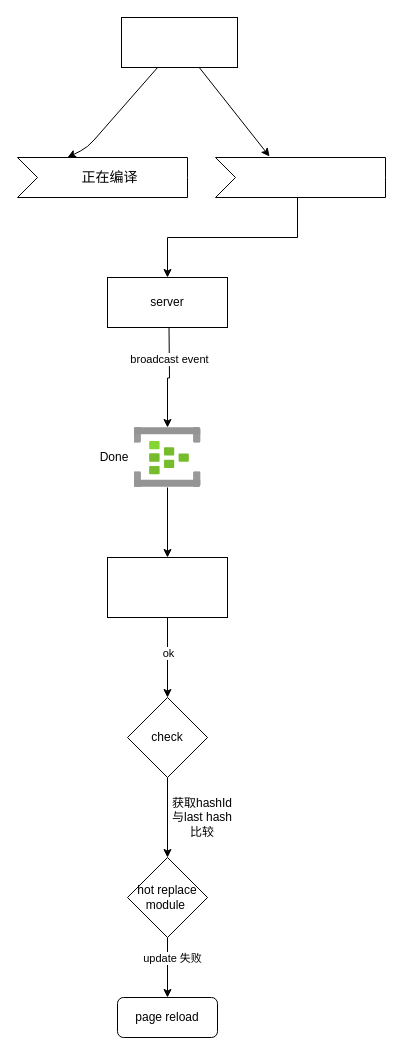
The diagram is 403 pixels wide and 1055 high, and some of its shapes have lost their labels. The centre of each missing label's shape, as x and y in pixels:
client: the point at 167,587
webpack compiler: the point at 179,42
编译结束: the point at 300,177
